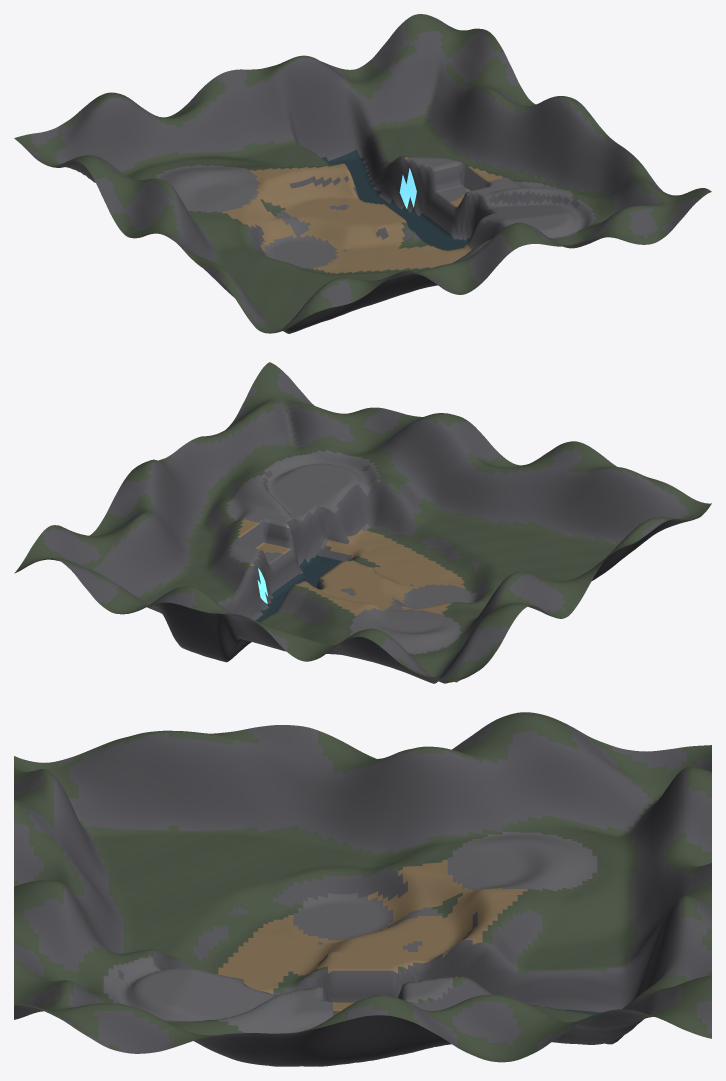
File: aether_crown_terrain_foundation.glb
The picture shows the model from 3 angles, top to bottom: view 1: azimuth 30°, elevation 25°; view 2: azimuth 150°, elevation 25°; view 3: azimuth 270°, elevation 25°; orthographic projection. The views are drawn at different scales.
Visible parts, largest first — view 1: AetherCrown_Terrain_Foundation; view 2: AetherCrown_Terrain_Foundation; view 3: AetherCrown_Terrain_Foundation.
Part boxes in pixels (bbox=[...]): AetherCrown_Terrain_Foundation: bbox=[14, 14, 711, 333]; AetherCrown_Terrain_Foundation: bbox=[14, 362, 711, 683]; AetherCrown_Terrain_Foundation: bbox=[14, 712, 711, 1066].
Bounding box in the file's own units: 140 × 28.58 × 140.
